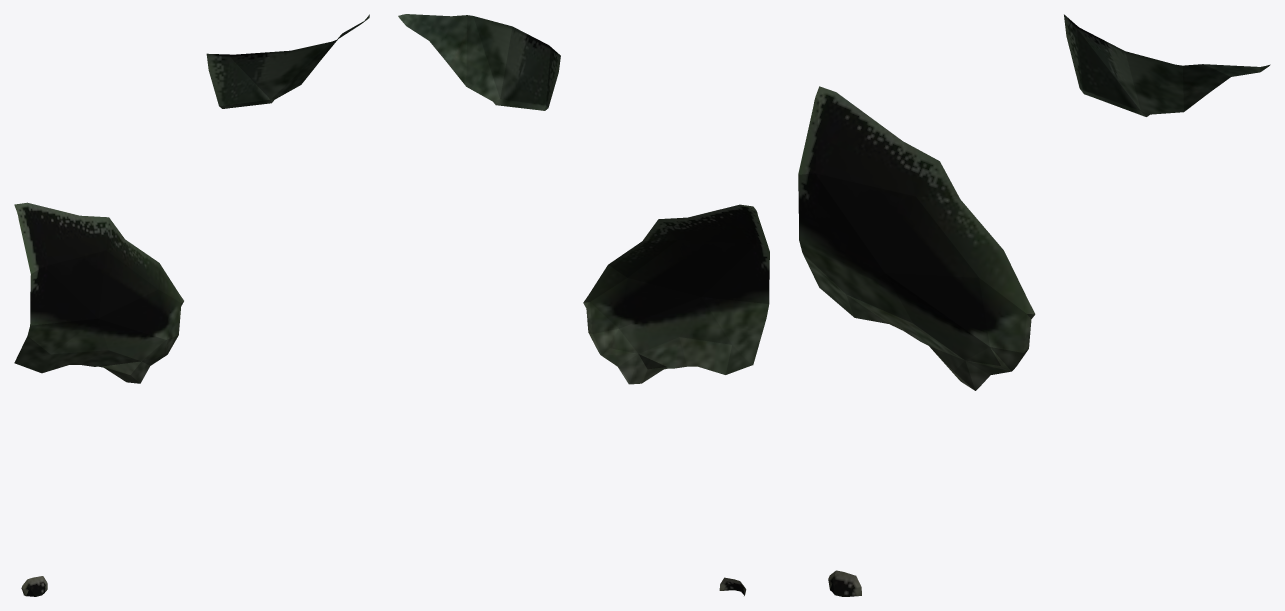
The picture shows the model from 3 angles, left to right: view 1: azimuth 30°, elevation 25°; view 2: azimuth 150°, elevation 25°; view 3: azimuth 330°, elevation 25°; orthographic projection. The views are drawn at different scales.
Bounding box in the file's own units: 4.42 × 5.9 × 0.4058.
Materials: 1 (1 with a texture image).
